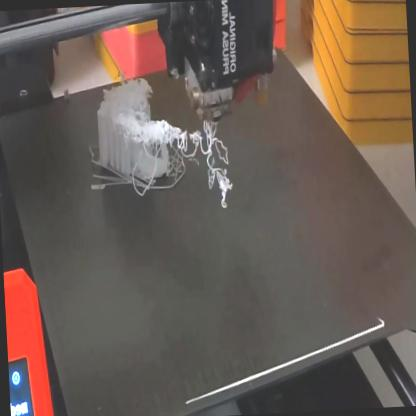fail: (160, 117, 236, 215)
